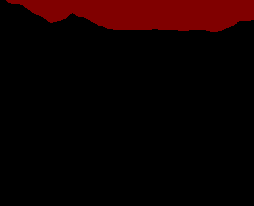Sky: (1, 1, 253, 205)
